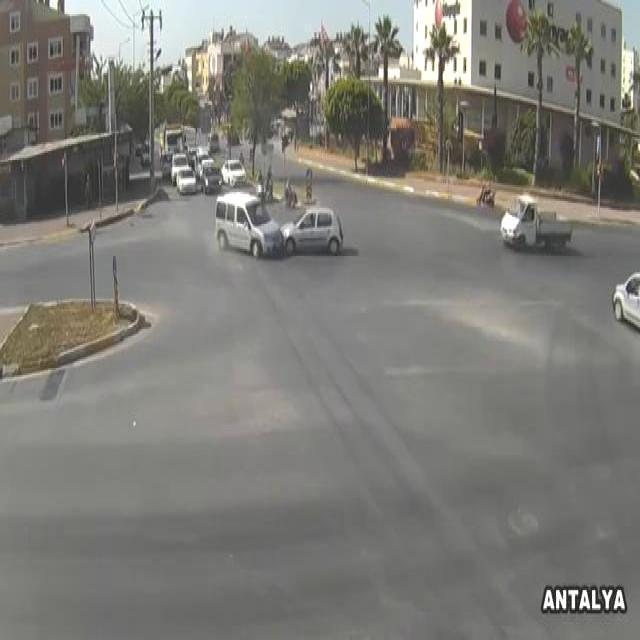car Accident: (221, 185, 341, 274)
